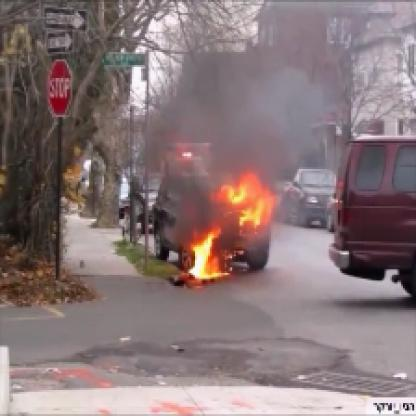Fire: (160, 169, 271, 293)
